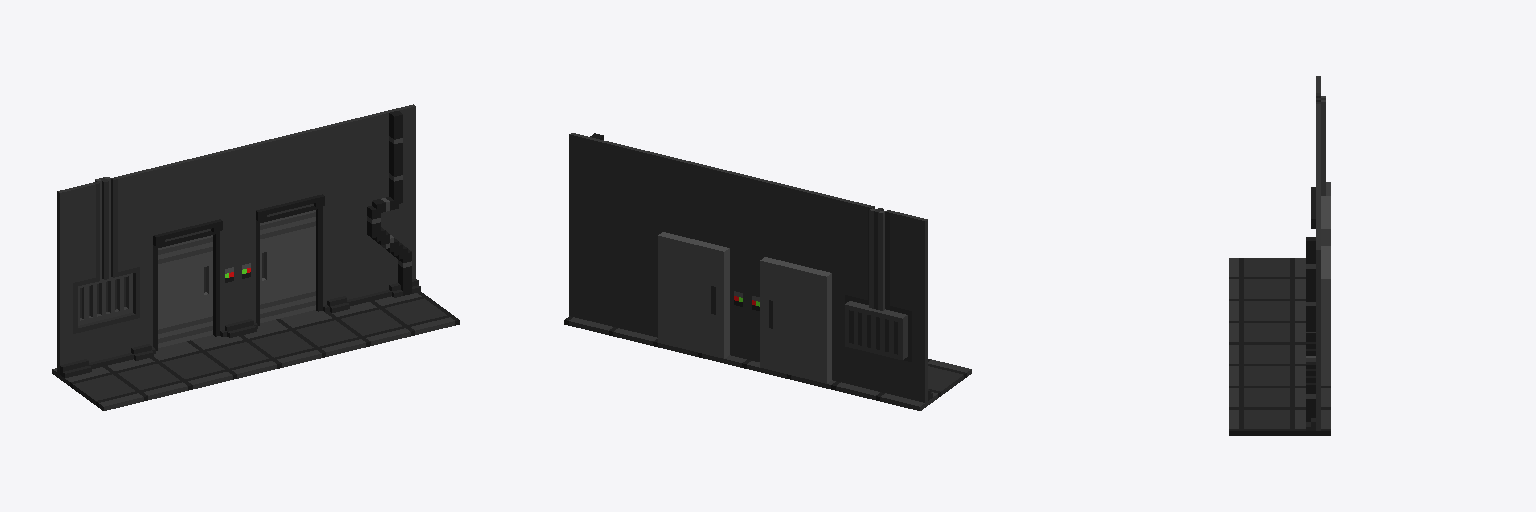
The picture shows the model from 3 angles: view 1: azimuth 30°, elevation 25°; view 2: azimuth 150°, elevation 25°; view 3: azimuth 270°, elevation 25°; orthographic projection.
Visible parts, largest first — view 1: object 1; view 2: object 1; view 3: object 1.
Part boxes in pixels (x1,y1,x2,y2): object 1: (52,104,459,410); object 1: (564,133,971,410); object 1: (1229,76,1330,435).
Bounding box in the file's own units: 8 × 4 × 2.
Materials: 1 (1 with a texture image).